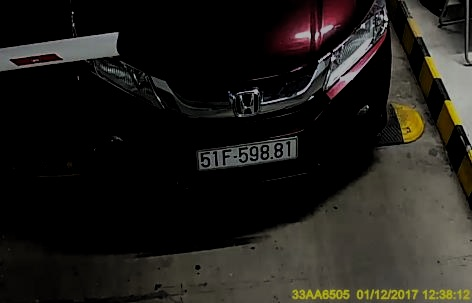plate: (194, 136, 299, 166)
